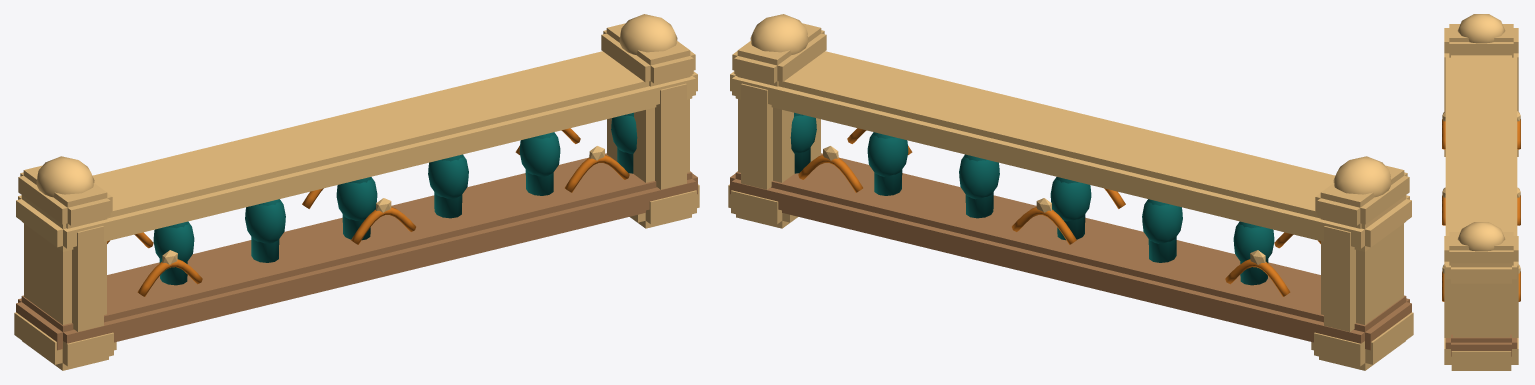
Rendered from west-rail.glb.
3 renders of one model, left to right at view 1: azimuth 30°, elevation 25°; view 2: azimuth 150°, elevation 25°; view 3: azimuth 270°, elevation 25°, orthographic. The views are drawn at different scales.
Visible parts, largest first — view 1: west-rail; view 2: west-rail; view 3: west-rail.
Part boxes in pixels (x1,y1,x2,y2): west-rail: (14, 14, 699, 370); west-rail: (728, 14, 1413, 370); west-rail: (1442, 14, 1520, 370).
Bounding box in the file's own units: 2.55 × 0.72 × 0.37.
